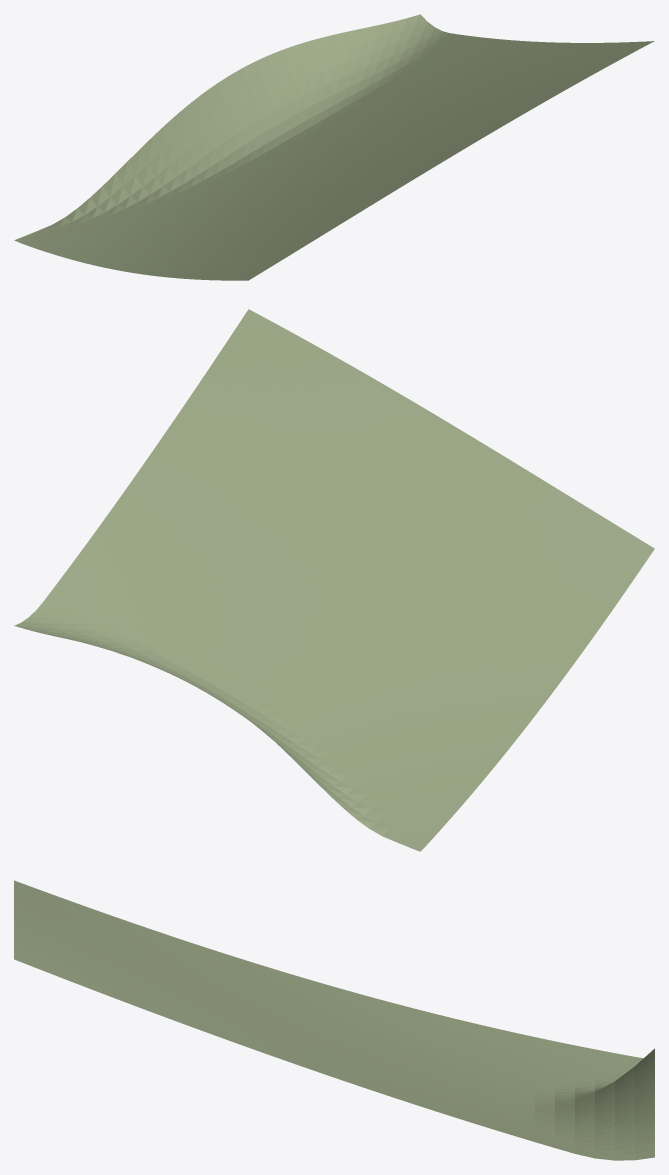
File: alpine-6-3.glb
The picture shows the model from 3 angles, top to bottom: view 1: azimuth 30°, elevation 25°; view 2: azimuth 150°, elevation 25°; view 3: azimuth 270°, elevation 25°; orthographic projection. The views are drawn at different scales.
Parts seen in each view (by area): view 1: alpine-6-3; view 2: alpine-6-3; view 3: alpine-6-3.
Part boxes in pixels (left/top/right/bottom): alpine-6-3: left=14, top=14, right=654, bottom=280; alpine-6-3: left=14, top=309, right=654, bottom=851; alpine-6-3: left=14, top=880, right=654, bottom=1160.
Bounding box in the file's own units: 256 × 164 × 256.
